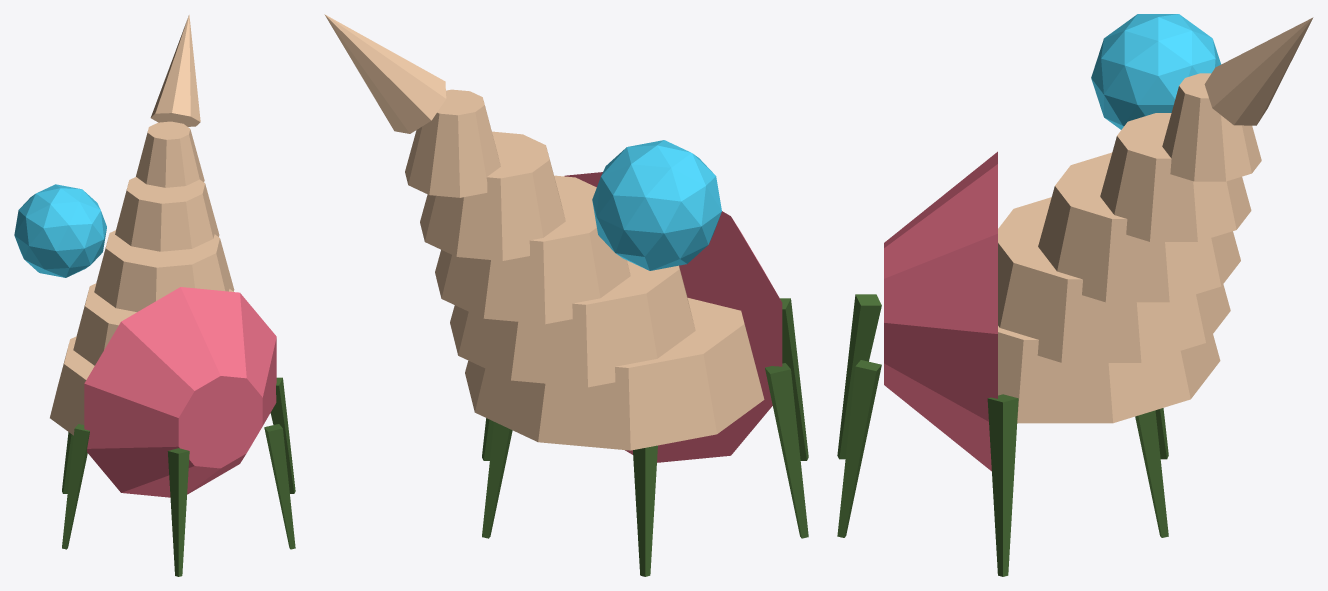
The model's file is TideHorn.obj.
3 renders of one model, left to right at view 1: azimuth 30°, elevation 25°; view 2: azimuth 150°, elevation 25°; view 3: azimuth 270°, elevation 25°, orthographic. The views are drawn at different scales.
Parts seen in each view (by area): view 1: TideHorn; view 2: TideHorn; view 3: TideHorn.
Boxes of the visible parts, bbox=[...] form: TideHorn: bbox=[14, 15, 295, 576]; TideHorn: bbox=[324, 14, 808, 576]; TideHorn: bbox=[837, 14, 1313, 576].
Bounding box in the file's own units: 0.7499 × 1.2 × 0.9203.
